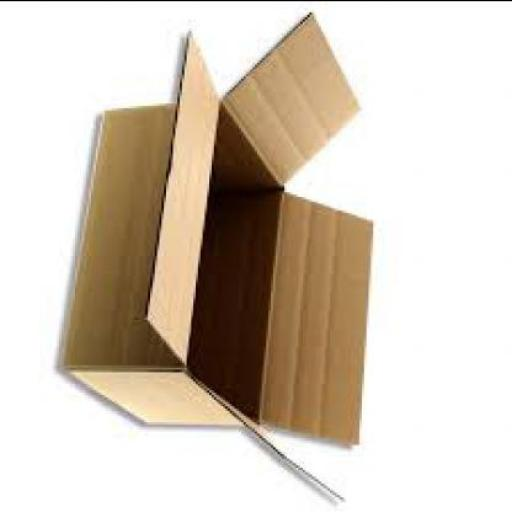cardboard: (63, 6, 376, 499)
